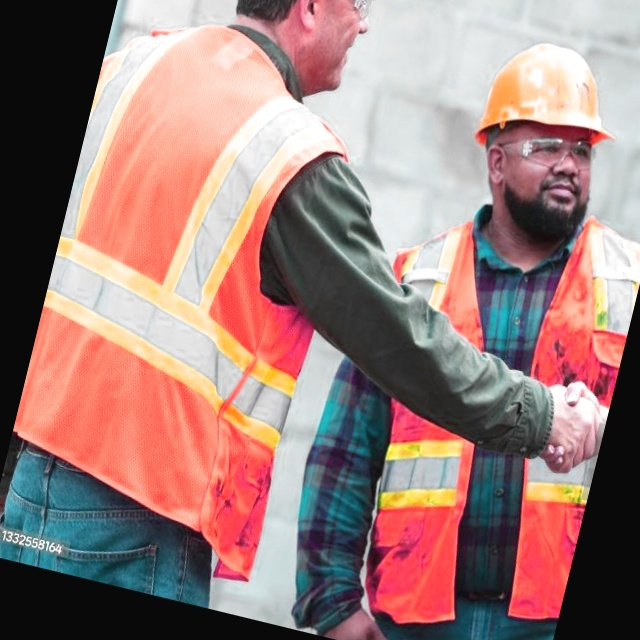Con_Casco: (456, 30, 634, 248)
Con_Chaleco: (0, 9, 383, 578), (326, 176, 640, 640)
